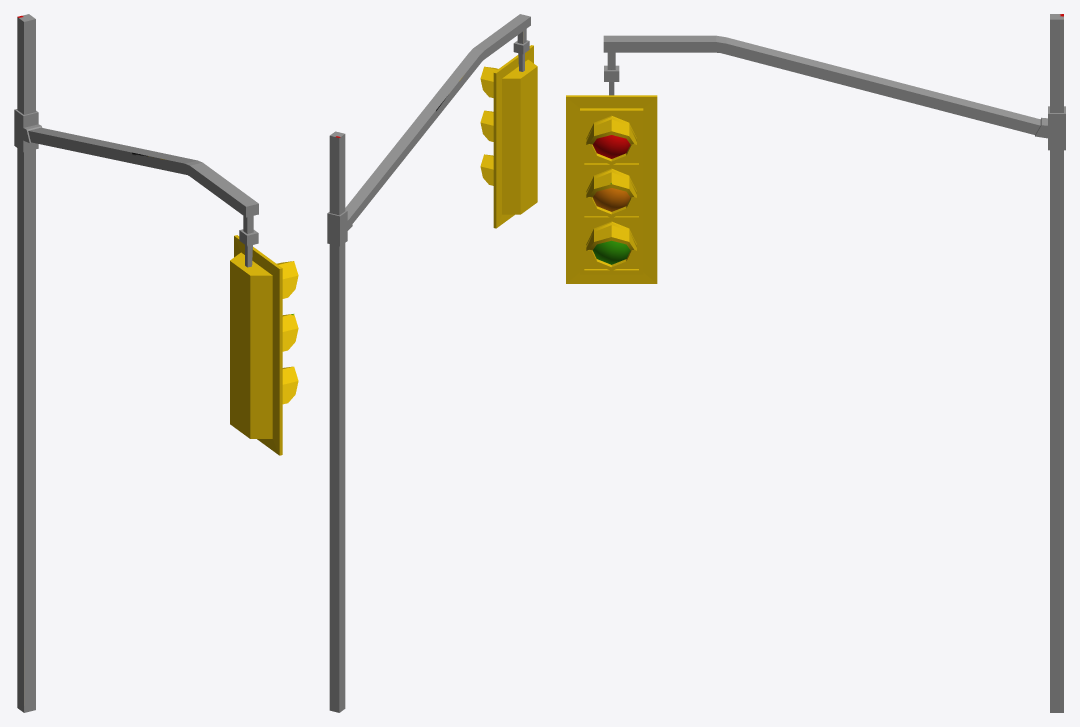
The model's file is traffic light.fbx.
The picture shows the model from 3 angles, left to right: view 1: azimuth 30°, elevation 25°; view 2: azimuth 150°, elevation 25°; view 3: azimuth 270°, elevation 25°; orthographic projection. The views are drawn at different scales.
Visible parts, largest first — view 1: pCube8; view 2: pCube8; view 3: pCube8.
Boxes of the visible parts, box(x1,y1,x2,y2) form: pCube8: box(14, 14, 298, 712); pCube8: box(327, 14, 537, 712); pCube8: box(566, 14, 1065, 712).
Bounding box in the file's own units: 2.86 × 34.86 × 22.78.
